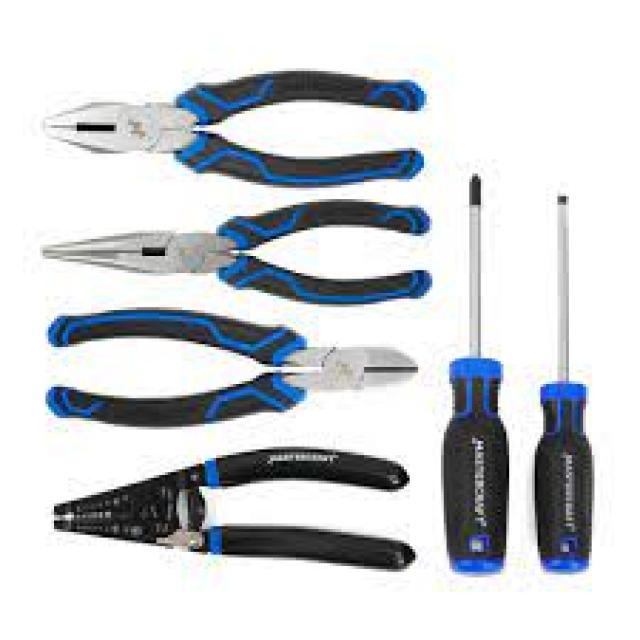Screwdriver: (444, 175, 509, 573), (535, 195, 592, 572)
